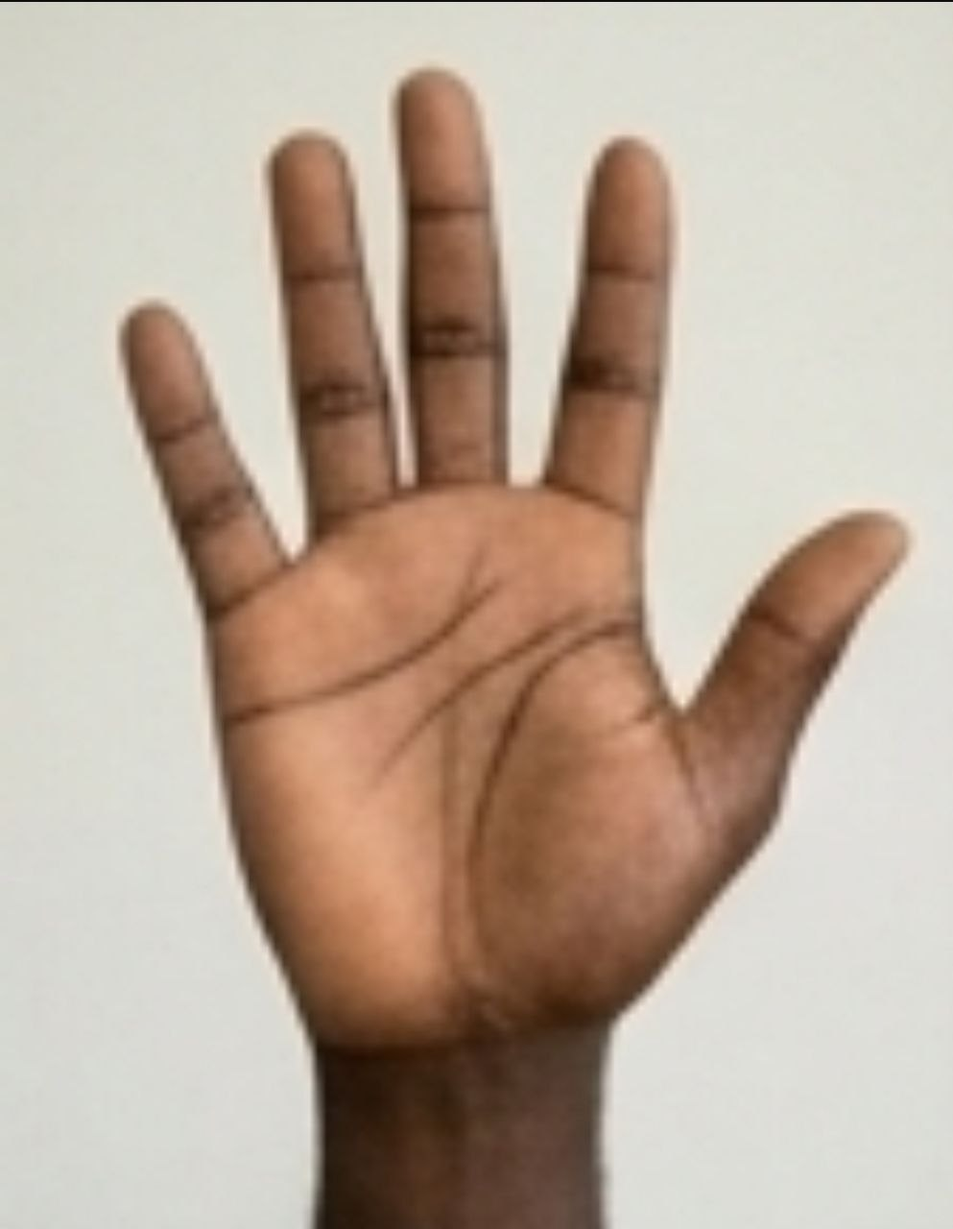Palm: (32, 65, 926, 1174)
